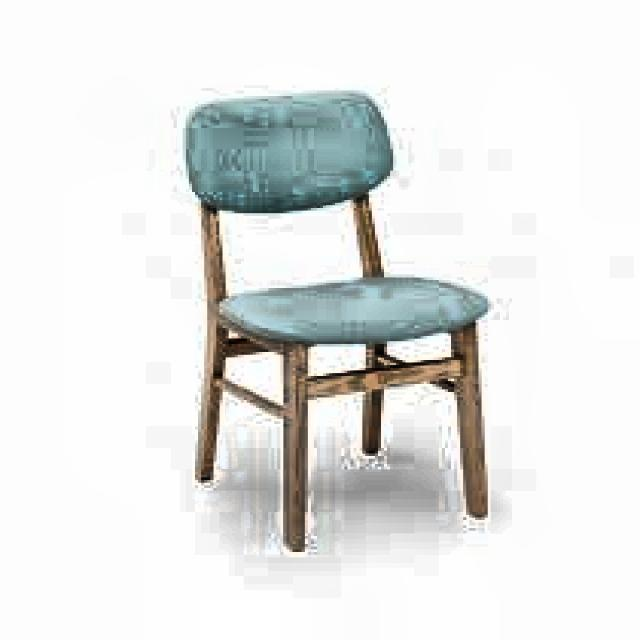cadeira: (175, 84, 494, 557)
